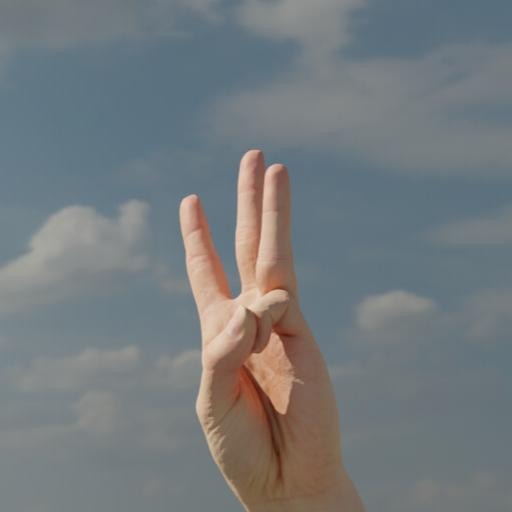W: (156, 124, 364, 501)
